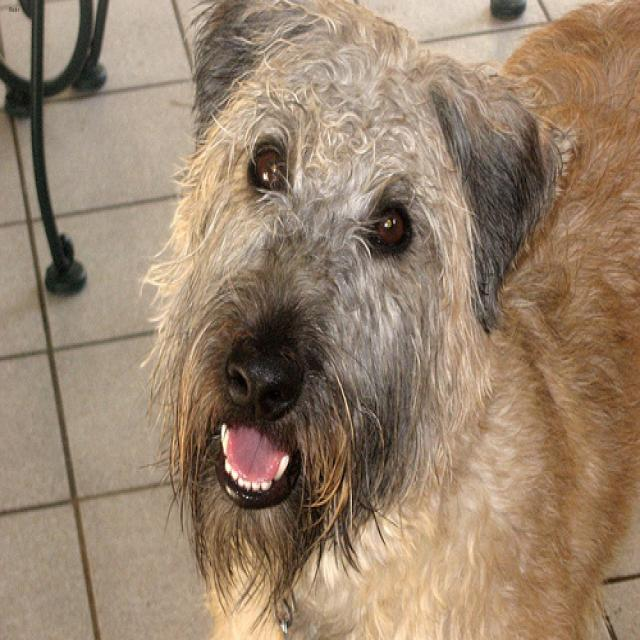dog-wheaten_terrier: (143, 2, 637, 637)
